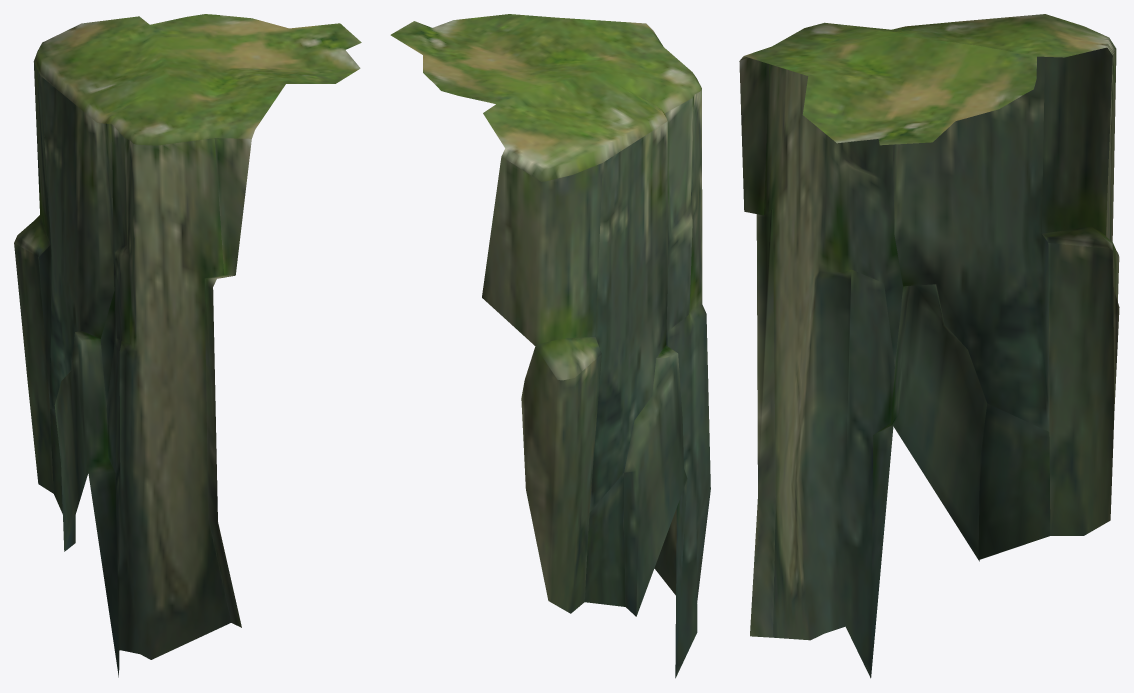
Rendered from S_Rock_Green054_H5.FBX.
3 views of the same model, side by side, from view 1: azimuth 30°, elevation 25°; view 2: azimuth 150°, elevation 25°; view 3: azimuth 270°, elevation 25° (orthographic). The views are drawn at different scales.
Parts seen in each view (by area): view 1: S_Rock_Green054_H5; view 2: S_Rock_Green054_H5; view 3: S_Rock_Green054_H5.
Part boxes in pixels (x1,y1,x2,y2): S_Rock_Green054_H5: [14, 14, 361, 677]; S_Rock_Green054_H5: [390, 14, 710, 678]; S_Rock_Green054_H5: [739, 14, 1119, 678].
Size of the model in its own units: 454 by 937 by 472.
